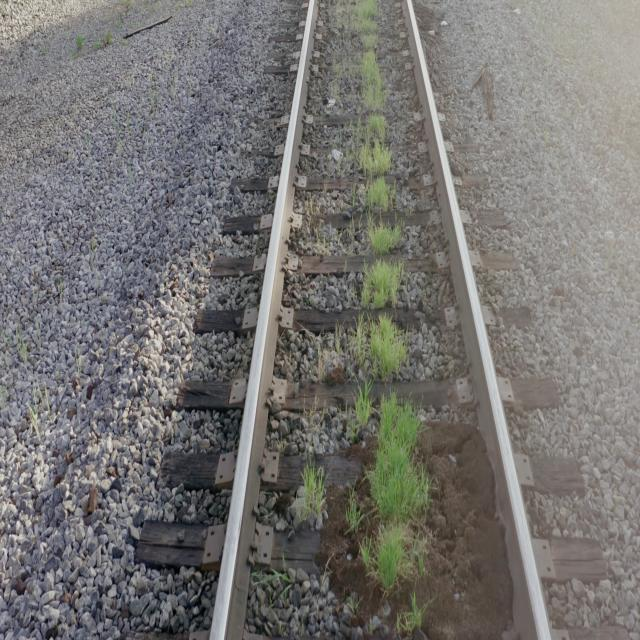Plant: (361, 393, 431, 593), (352, 0, 392, 213), (351, 313, 408, 382), (361, 258, 402, 307), (376, 524, 404, 591), (304, 462, 325, 513), (369, 222, 400, 251), (400, 596, 425, 631), (356, 384, 371, 429), (346, 498, 364, 533)
